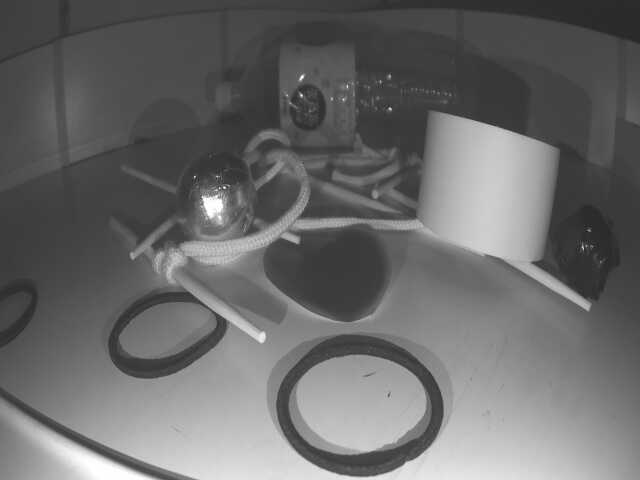Dead: (555, 199, 624, 300)
Live: (174, 145, 257, 253)
Point: (613, 117, 640, 196)
